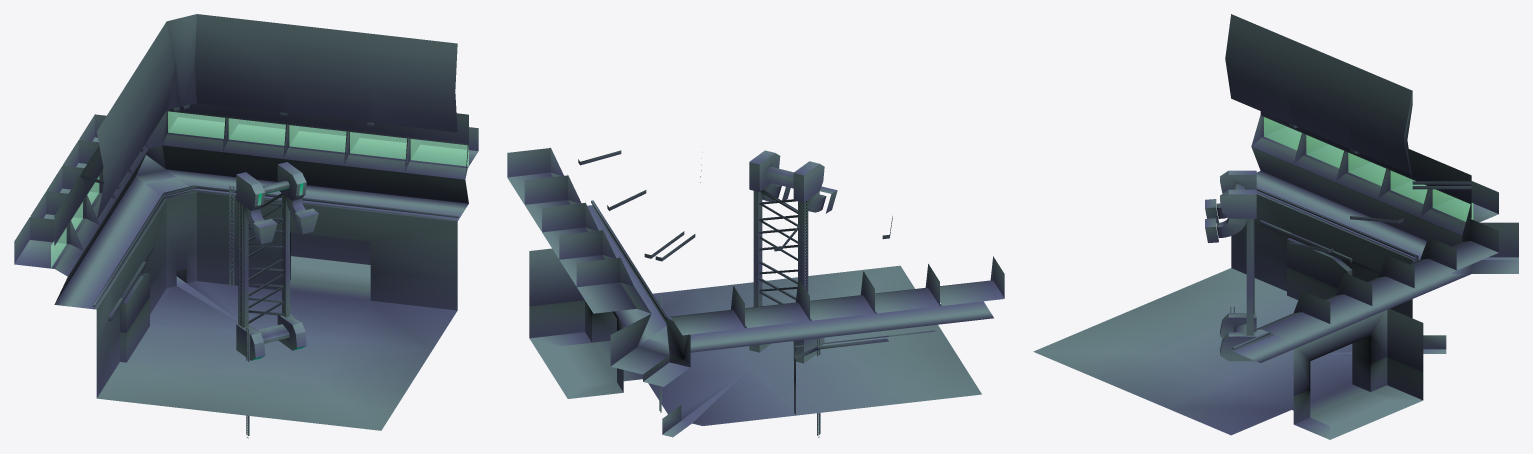
The model's file is garage-1.glb.
The picture shows the model from 3 angles, left to right: view 1: azimuth 30°, elevation 25°; view 2: azimuth 150°, elevation 25°; view 3: azimuth 270°, elevation 25°; orthographic projection. The views are drawn at different scales.
Visible parts, largest first — view 1: GARAGE, WINDOWS; view 2: GARAGE; view 3: GARAGE, WINDOWS.
Boxes of the visible parts, x1,y1,x2,y2 form: GARAGE: (14,14,478,438); WINDOWS: (51,111,468,267); GARAGE: (507,147,1004,437); GARAGE: (1033,14,1518,439); WINDOWS: (1264,117,1473,221).
Size of the model in its own units: 3.64 by 2.59 by 3.47.
Materials: 2 (2 with a texture image).
